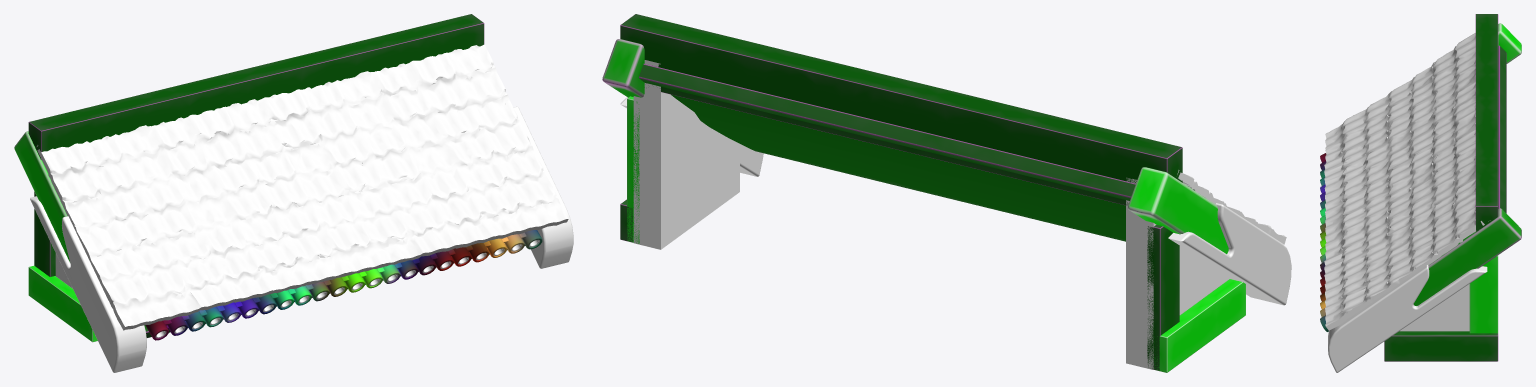
Rendered from roof_standalone_400x100_01.fbx.
3 views of the same model, side by side, from view 1: azimuth 30°, elevation 25°; view 2: azimuth 150°, elevation 25°; view 3: azimuth 270°, elevation 25° (orthographic). The views are drawn at different scales.
Parts seen in each view (by area): view 1: roof_standalone_400x100_01; view 2: roof_standalone_400x100_01; view 3: roof_standalone_400x100_01.
Part boxes in pixels (x1,y1,x2,y2): roof_standalone_400x100_01: (14, 14, 573, 372); roof_standalone_400x100_01: (602, 14, 1291, 372); roof_standalone_400x100_01: (1320, 14, 1521, 372).
Bounding box in the file's own units: 4.12 × 1.59 × 1.77.
